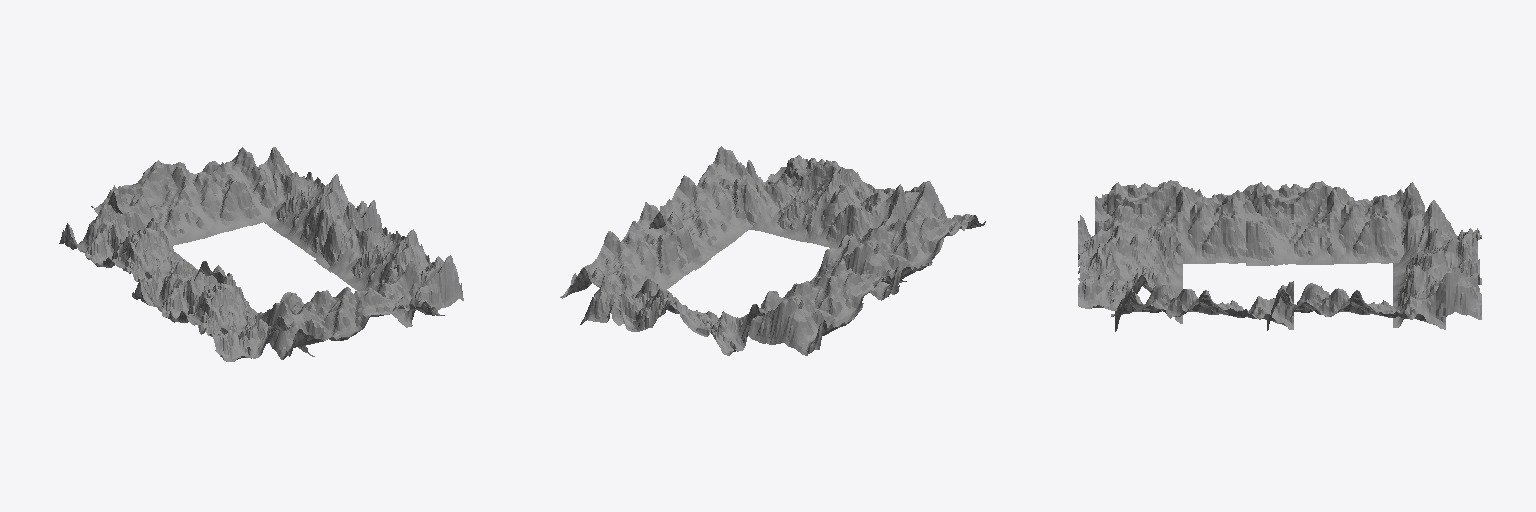
The model's file is mountains.obj.
The picture shows the model from 3 angles: view 1: azimuth 30°, elevation 25°; view 2: azimuth 150°, elevation 25°; view 3: azimuth 270°, elevation 25°; orthographic projection.
Parts seen in each view (by area): view 1: TerrainMesh001, TerrainMesh004, TerrainMesh003, TerrainMesh005, TerrainMesh, TerrainMesh002; view 2: TerrainMesh005, TerrainMesh002, TerrainMesh004, TerrainMesh003, TerrainMesh, TerrainMesh001; view 3: TerrainMesh002, TerrainMesh003, TerrainMesh005, TerrainMesh001, TerrainMesh004, TerrainMesh.
Boxes of the visible parts, x1=… form: TerrainMesh001: x1=91, y1=147, x2=277, y2=245; TerrainMesh004: x1=314, y1=202, x2=463, y2=327; TerrainMesh003: x1=132, y1=260, x2=314, y2=361; TerrainMesh005: x1=255, y1=261, x2=444, y2=359; TerrainMesh: x1=258, y1=147, x2=382, y2=272; TerrainMesh002: x1=59, y1=205, x2=225, y2=306; TerrainMesh005: x1=741, y1=155, x2=924, y2=247; TerrainMesh002: x1=748, y1=236, x2=906, y2=355; TerrainMesh004: x1=649, y1=146, x2=762, y2=270; TerrainMesh003: x1=811, y1=181, x2=985, y2=300; TerrainMesh: x1=560, y1=202, x2=710, y2=325; TerrainMesh001: x1=580, y1=276, x2=765, y2=355; TerrainMesh002: x1=1246, y1=181, x2=1424, y2=265; TerrainMesh003: x1=1095, y1=180, x2=1277, y2=265; TerrainMesh005: x1=1078, y1=205, x2=1182, y2=323; TerrainMesh001: x1=1393, y1=200, x2=1481, y2=327; TerrainMesh004: x1=1111, y1=281, x2=1293, y2=331; TerrainMesh: x1=1267, y1=281, x2=1445, y2=330.
Size of the model in its own units: 2512 by 492 by 3448.